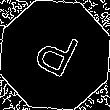P_SW: (28, 24, 82, 86)
